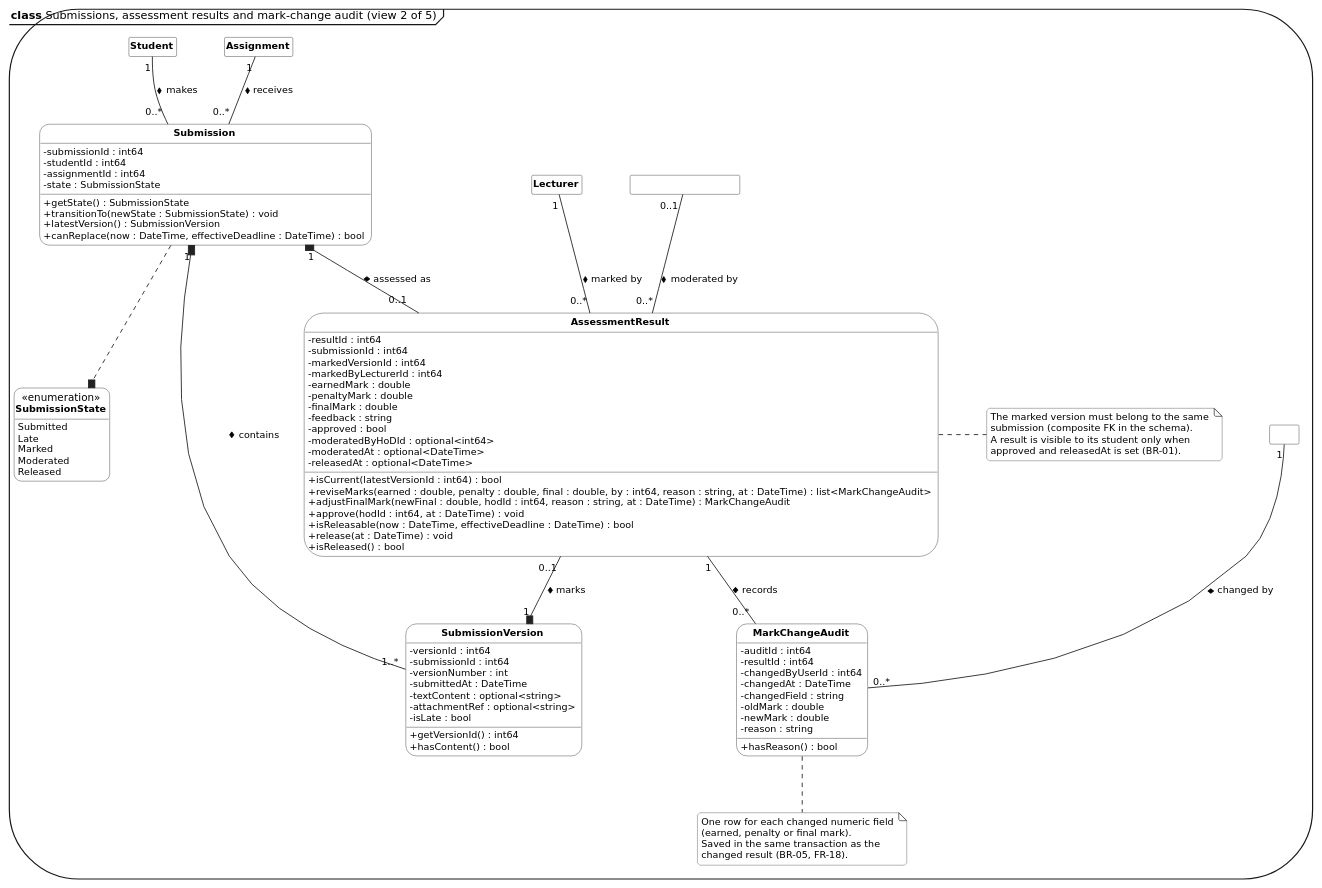
Some shapes in this 1322 by 888 pixel diagram are drawn without their labels. Each missing label, with the box of its shape:
HeadOfDepartment: (630, 175, 740, 194)
User: (1269, 425, 1299, 444)
